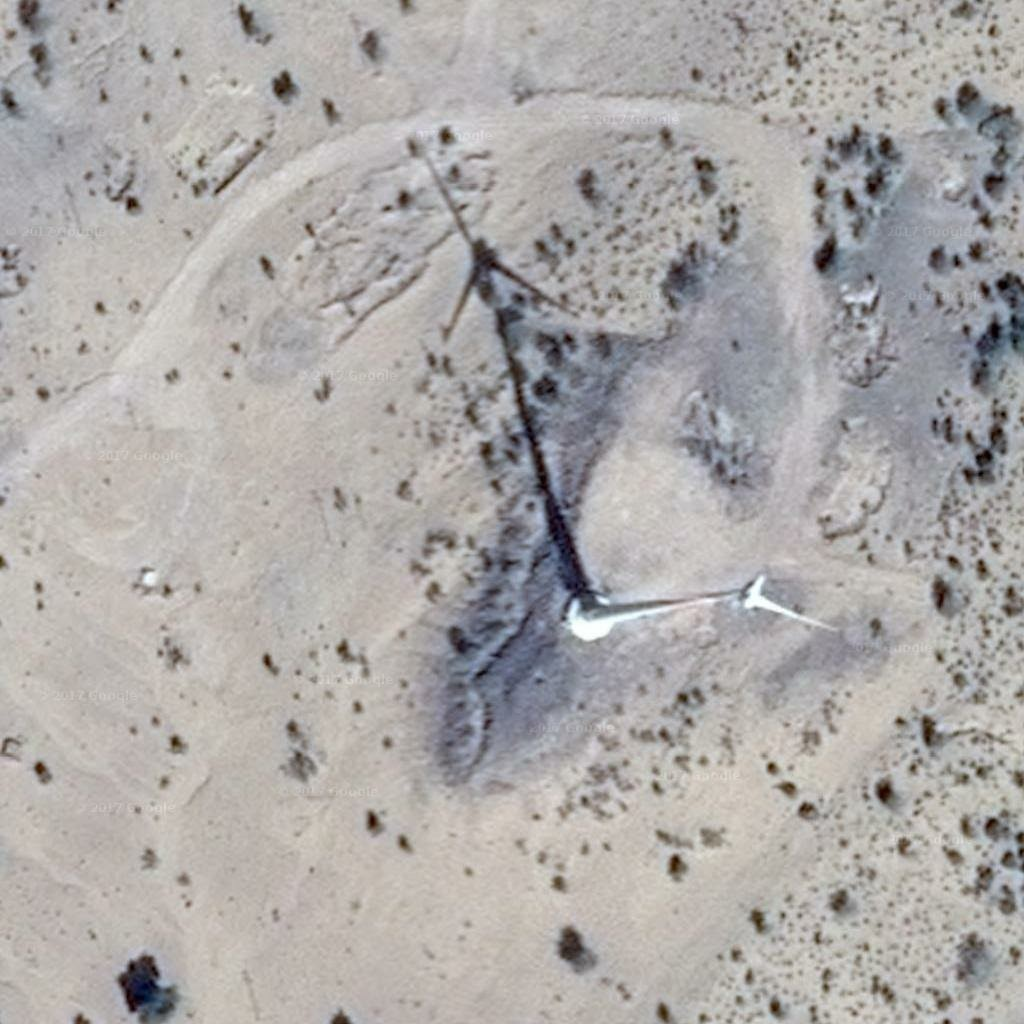Windmill: (422, 156, 610, 605)
